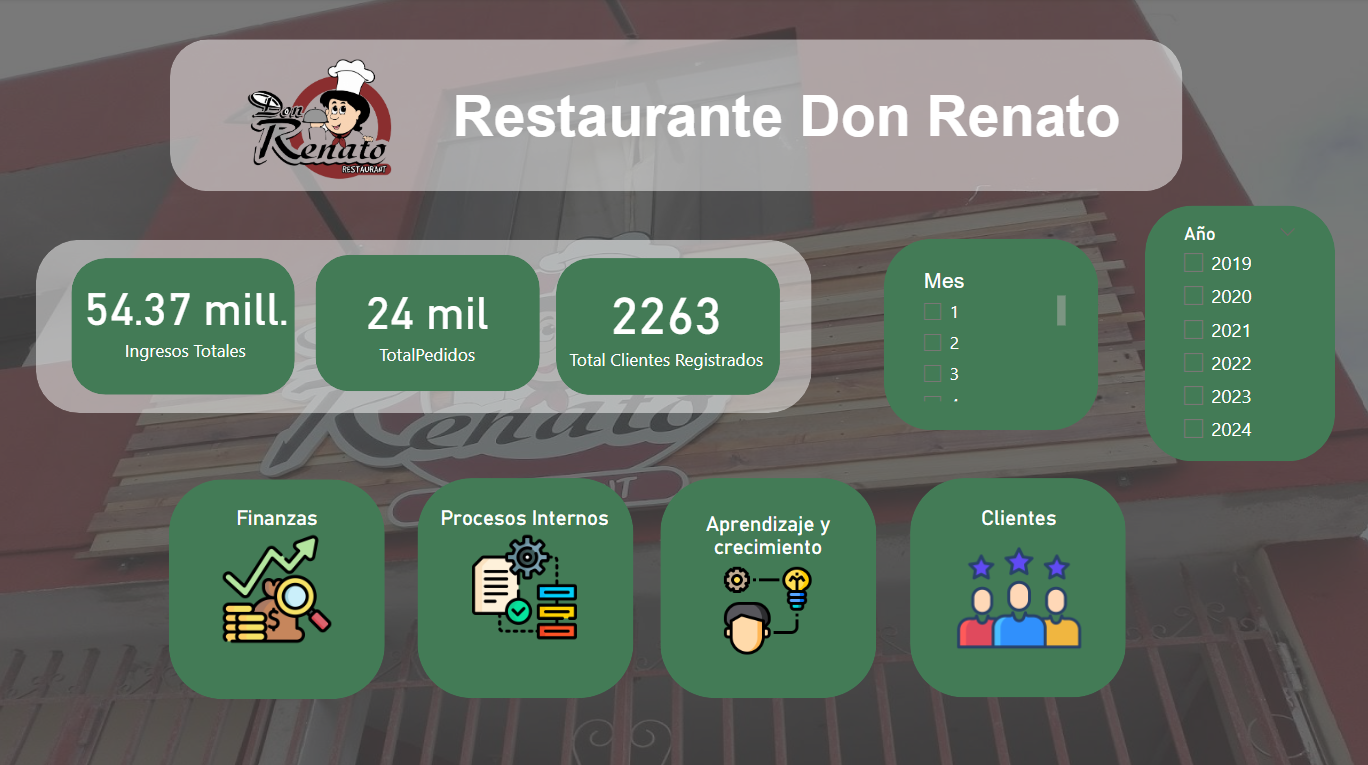

Layout of this report page (visuals, bound fields, positions):
{"tool":"powerbi","page":{"name":"Home","canvas":[1280,720],"ordinal":0},"visuals":[{"type":"shape","box":[824.7,224.1,200,178.6],"z":0},{"type":"shape","box":[160,38.3,943.3,141.7],"z":1000},{"type":"image","box":[188.3,26.7,230,166.7],"z":2000},{"type":"shape","box":[35.7,225.7,722.9,161.4],"z":3000},{"type":"shape","box":[68.1,242,208.2,127.3],"z":4000},{"type":"card","fields":{"Values":["Medidas.Ingresos Totales"]},"box":[56.2,234.7,235.5,121.8],"z":5000},{"type":"shape","box":[519.9,242.5,208.8,127.7],"z":6000},{"type":"card","title":"Contego de clientes registrados","fields":{"Values":["Medidas.Total Clientes Registrados"]},"box":[519.9,246.9,205,108.3],"z":7000},{"type":"shape","box":[1068.4,193.3,177.1,238.6],"z":8000},{"type":"shape","box":[158.7,447.9,201.2,205],"z":9000},{"type":"shape","box":[295.4,239.3,209.1,127.3],"z":10000},{"type":"shape","box":[617.1,446.9,201.2,205],"z":11000},{"type":"card","fields":{"Values":["Medidas.TotalPedidos"]},"box":[281.7,239.3,235.5,121.8],"z":12000},{"type":"image","title":"Finanzas","box":[195.1,472.9,128.9,133.3],"z":13000},{"type":"shape","box":[390.2,447,201.2,205],"z":14000},{"type":"image","title":"Procesos Internos","box":[406.2,472.9,167.8,130],"z":15000},{"type":"image","title":"Aprendizaje y crecimiento","box":[620.1,478.6,194.4,141.1],"z":16000},{"type":"shape","box":[849.6,447.4,201.1,204.4],"z":17000},{"type":"image","title":"Clientes","box":[863.2,472.9,175,150],"z":18000},{"type":"textbox","box":[418.8,75,661.9,81.4],"z":19000},{"type":"slicer","fields":{"Values":["Calentadario.Año"]},"box":[1092,204.9,129.2,227.4],"z":20000},{"type":"slicer","fields":{"Values":["Calentadario.Mes"]},"box":[850,246.7,150,134.4],"z":21000}]}

Visuals, with their boxes in screenshot pixels (x1, y1, x2, y2), scaled from the page's 1280x720 canvas onto the 1368x765 screenshot:
shape: {"left": 881, "top": 238, "right": 1095, "bottom": 428}
shape: {"left": 171, "top": 41, "right": 1179, "bottom": 191}
image: {"left": 201, "top": 28, "right": 447, "bottom": 205}
shape: {"left": 38, "top": 240, "right": 811, "bottom": 411}
shape: {"left": 73, "top": 257, "right": 295, "bottom": 392}
card - Medidas.Ingresos Totales: {"left": 60, "top": 249, "right": 312, "bottom": 379}
shape: {"left": 556, "top": 258, "right": 779, "bottom": 393}
"Contego de clientes registrados" card: {"left": 556, "top": 262, "right": 775, "bottom": 377}
shape: {"left": 1142, "top": 205, "right": 1331, "bottom": 459}
shape: {"left": 170, "top": 476, "right": 385, "bottom": 694}
shape: {"left": 316, "top": 254, "right": 539, "bottom": 390}
shape: {"left": 660, "top": 475, "right": 875, "bottom": 693}
card - Medidas.TotalPedidos: {"left": 301, "top": 254, "right": 553, "bottom": 384}
"Finanzas" image: {"left": 209, "top": 502, "right": 346, "bottom": 644}
shape: {"left": 417, "top": 475, "right": 632, "bottom": 693}
"Procesos Internos" image: {"left": 434, "top": 502, "right": 613, "bottom": 641}
"Aprendizaje y crecimiento" image: {"left": 663, "top": 509, "right": 870, "bottom": 658}
shape: {"left": 908, "top": 475, "right": 1123, "bottom": 693}
"Clientes" image: {"left": 923, "top": 502, "right": 1110, "bottom": 662}
textbox: {"left": 448, "top": 80, "right": 1155, "bottom": 166}
slicer - Calentadario.Año: {"left": 1167, "top": 218, "right": 1305, "bottom": 459}
slicer - Calentadario.Mes: {"left": 908, "top": 262, "right": 1069, "bottom": 405}
